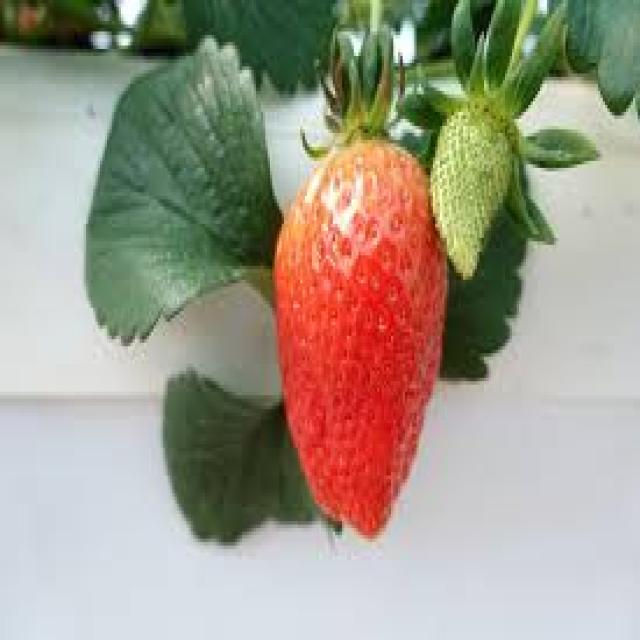immature: (428, 104, 512, 281)
mature: (274, 131, 447, 541)
